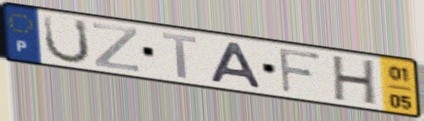A: (208, 40, 266, 91)
F: (276, 46, 324, 96)
H: (331, 54, 378, 108)
T: (159, 30, 200, 81)
U: (41, 12, 93, 65)
Z: (91, 21, 141, 74)
